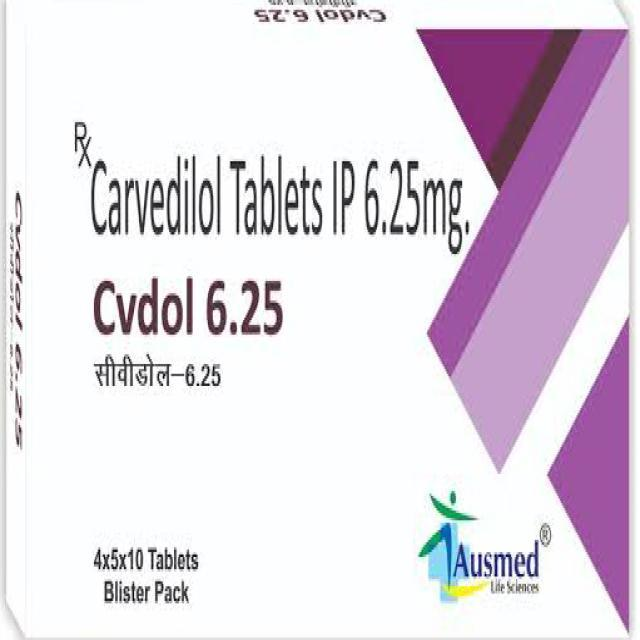drug-name: (89, 274, 288, 340)
